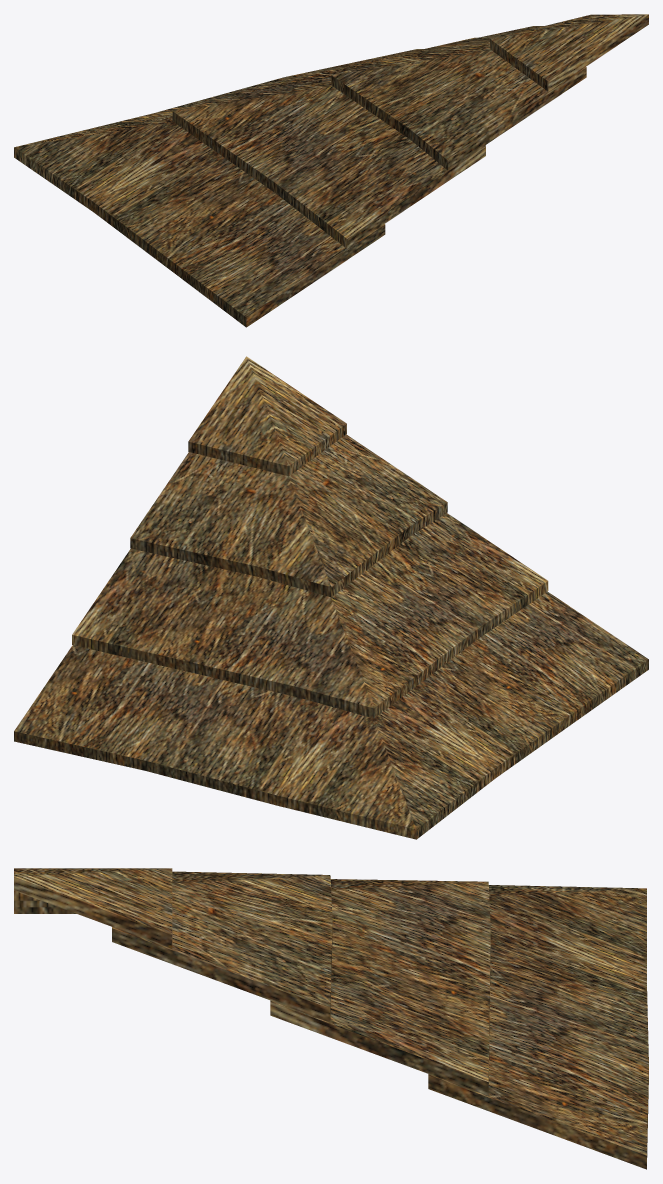
File: construction_wood_roof_corner_mesh.fbx
3 renders of one model, top to bottom at view 1: azimuth 30°, elevation 25°; view 2: azimuth 150°, elevation 25°; view 3: azimuth 270°, elevation 25°, orthographic. The views are drawn at different scales.
Parts seen in each view (by area): view 1: construction_wood_roof_corner_mesh; view 2: construction_wood_roof_corner_mesh; view 3: construction_wood_roof_corner_mesh.
Boxes of the visible parts, left/top/right/bottom form: construction_wood_roof_corner_mesh: left=14, top=14, right=648, bottom=327; construction_wood_roof_corner_mesh: left=14, top=356, right=648, bottom=839; construction_wood_roof_corner_mesh: left=14, top=868, right=648, bottom=1169.
Size of the model in its own units: 338 by 172 by 339.
